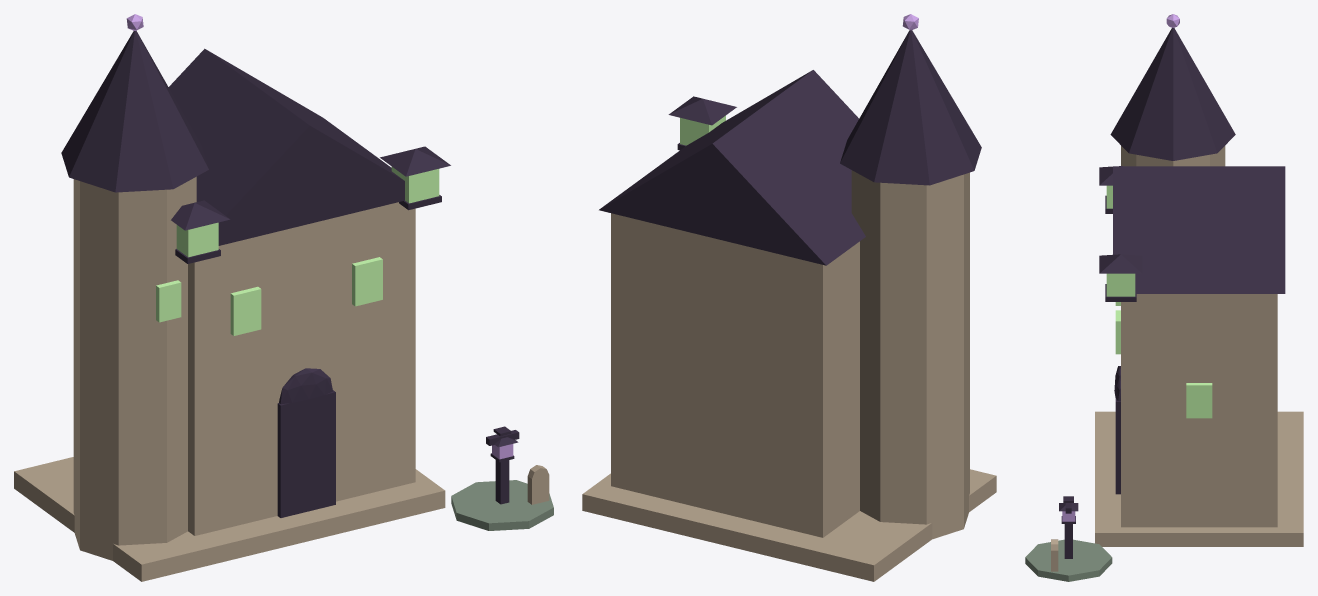
File: graveyard-landmark-s3.glb
The picture shows the model from 3 angles, left to right: view 1: azimuth 30°, elevation 25°; view 2: azimuth 150°, elevation 25°; view 3: azimuth 270°, elevation 25°; orthographic projection. The views are drawn at different scales.
Visible parts, largest first — view 1: graveyard-landmark-s3; view 2: graveyard-landmark-s3; view 3: graveyard-landmark-s3.
Part boxes in pixels (x1,y1,x2,y2): graveyard-landmark-s3: [14, 14, 553, 581]; graveyard-landmark-s3: [582, 14, 996, 581]; graveyard-landmark-s3: [1025, 14, 1303, 581].
Size of the model in its own units: 1.51 by 1.81 by 1.07.
